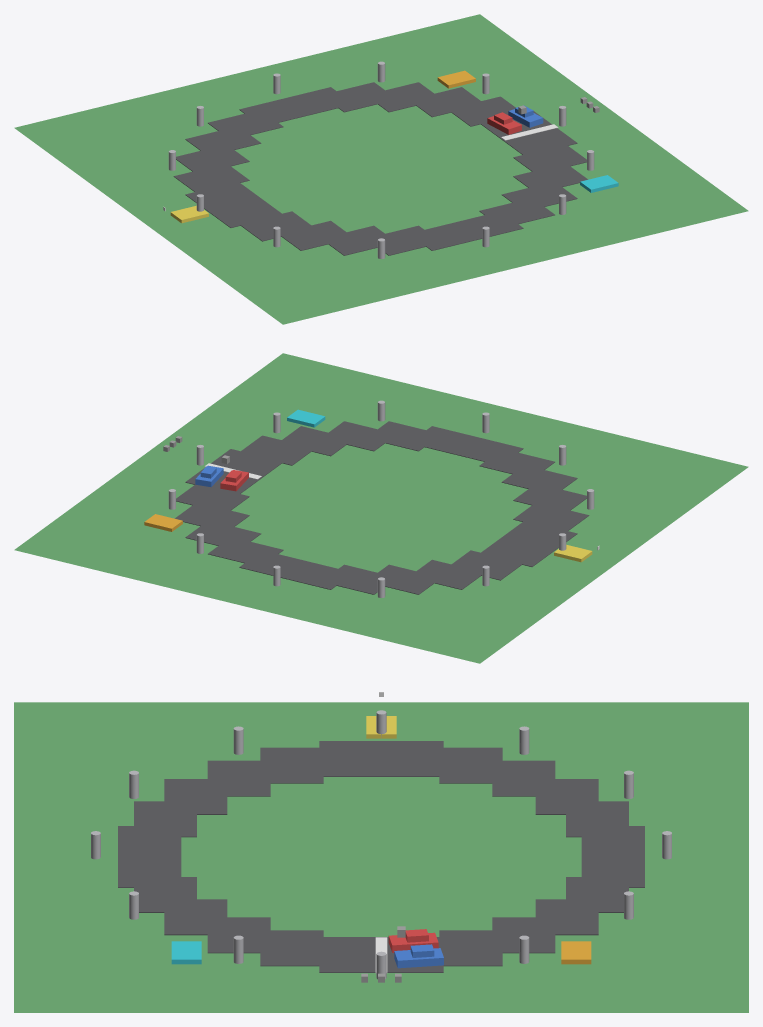
Rendered from r4-racer.glb.
The picture shows the model from 3 angles, top to bottom: view 1: azimuth 30°, elevation 25°; view 2: azimuth 150°, elevation 25°; view 3: azimuth 270°, elevation 25°; orthographic projection. The views are drawn at different scales.
Parts seen in each view (by area): view 1: Ground, TrackRing; view 2: Ground, TrackRing; view 3: Ground, TrackRing, RivalCar, Car, PadLeft, PadRight, PadBoost.
Part boxes in pixels (bbox=[...]): Ground: bbox=[14, 14, 748, 324]; TrackRing: bbox=[173, 82, 587, 255]; Ground: bbox=[14, 353, 748, 663]; TrackRing: bbox=[175, 421, 589, 594]; Ground: bbox=[14, 702, 748, 1012]; TrackRing: bbox=[118, 741, 644, 972]; RivalCar: bbox=[394, 944, 443, 968]; Car: bbox=[388, 929, 438, 952]; PadLeft: bbox=[561, 941, 591, 964]; PadRight: bbox=[171, 941, 201, 964]; PadBoost: bbox=[366, 716, 396, 738].
Size of the model in its own units: 44 by 1.87 by 44.
